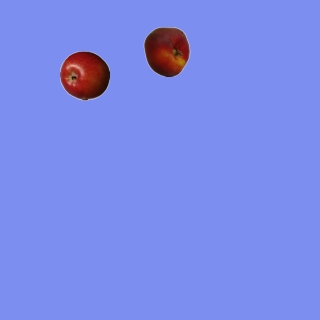Apple Braeburn: (59, 50, 109, 100)
Nectarine Flat: (141, 26, 191, 76)
